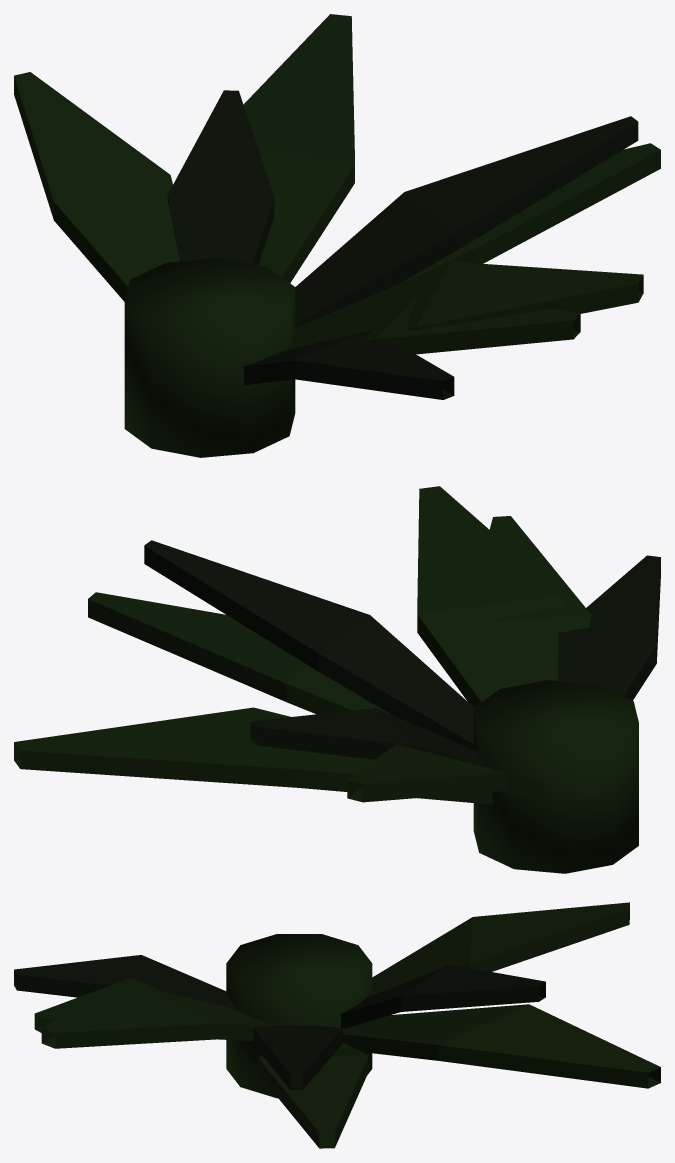
File: NatureFern.obj
3 views of the same model, one above another, from view 1: azimuth 30°, elevation 25°; view 2: azimuth 150°, elevation 25°; view 3: azimuth 270°, elevation 25° (orthographic). The views are drawn at different scales.
Parts seen in each view (by area): view 1: fern_heart, fern_frond.003, fern_frond.007, fern_frond.005, fern_frond.002, fern_frond.006, fern_frond, fern_frond.001, fern_frond.004; view 2: fern_heart, fern_frond.003, fern_frond.005, fern_frond.002, fern_frond.004, fern_frond, fern_frond.006, fern_frond.001, fern_frond.007; view 3: fern_frond.005, fern_heart, fern_frond.007, fern_frond.002, fern_frond.006, fern_frond, fern_frond.004, fern_frond.003, fern_frond.001.
Boxes of the visible parts, x1=… form: fern_heart: x1=124, y1=258, x2=295, y2=457; fern_frond.003: x1=295, y1=116, x2=638, y2=327; fern_frond.007: x1=14, y1=72, x2=180, y2=301; fern_frond.005: x1=243, y1=14, x2=354, y2=282; fern_frond.002: x1=292, y1=261, x2=643, y2=339; fern_frond.006: x1=167, y1=90, x2=274, y2=265; fern_frond: x1=244, y1=330, x2=454, y2=399; fern_frond.001: x1=283, y1=295, x2=580, y2=354; fern_frond.004: x1=399, y1=143, x2=660, y2=283; fern_heart: x1=473, y1=680, x2=638, y2=873; fern_frond.003: x1=144, y1=540, x2=474, y2=749; fern_frond.005: x1=14, y1=707, x2=492, y2=804; fern_frond.002: x1=417, y1=486, x2=563, y2=707; fern_frond.004: x1=88, y1=592, x2=391, y2=714; fern_frond: x1=558, y1=555, x2=660, y2=700; fern_frond.006: x1=250, y1=708, x2=498, y2=770; fern_frond.001: x1=484, y1=516, x2=591, y2=686; fern_frond.007: x1=347, y1=744, x2=543, y2=802; fern_frond.005: x1=342, y1=1004, x2=660, y2=1088; fern_heart: x1=226, y1=934, x2=372, y2=1098; fern_frond.007: x1=367, y1=902, x2=629, y2=997; fern_frond.002: x1=41, y1=985, x2=274, y2=1048; fern_frond.006: x1=341, y1=964, x2=545, y2=1028; fern_frond: x1=14, y1=955, x2=237, y2=1009; fern_frond.004: x1=258, y1=1042, x2=368, y2=1148; fern_frond.003: x1=253, y1=1026, x2=342, y2=1089; fern_frond.001: x1=34, y1=978, x2=254, y2=1032.
Size of the model in its own units: 0.5309 by 0.19 by 0.6655.
